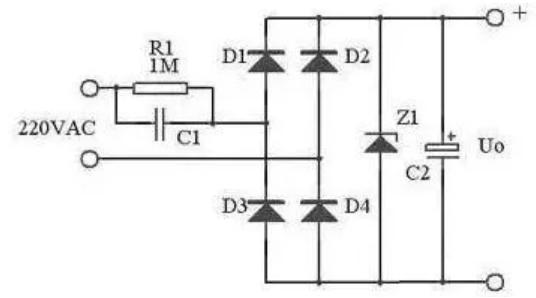cap1: (423, 131, 461, 161), (148, 103, 172, 145)
diode: (243, 44, 289, 78), (245, 195, 289, 228), (363, 124, 401, 160), (298, 45, 340, 77), (298, 195, 341, 226)
res1: (128, 79, 192, 98)
